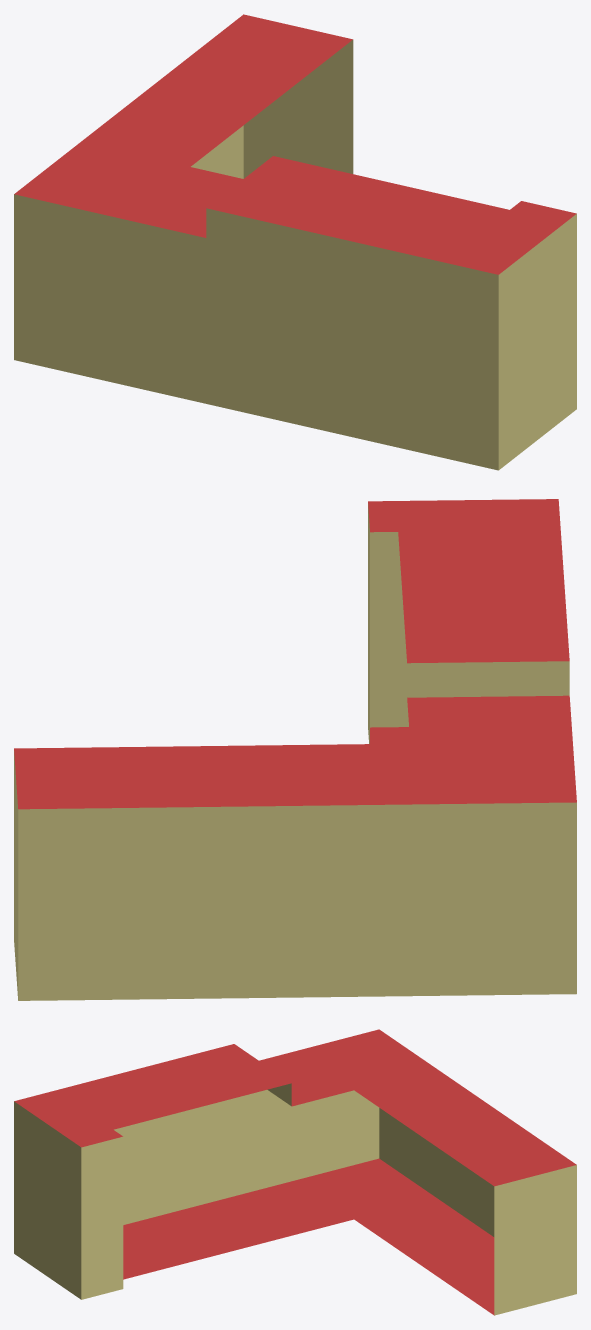
3 views of the same model, one above another, from view 1: azimuth 30°, elevation 25°; view 2: azimuth 150°, elevation 25°; view 3: azimuth 270°, elevation 25° (orthographic). The views are drawn at different scales.
Size of the model in its own units: 11.22 by 17 by 5.08.
